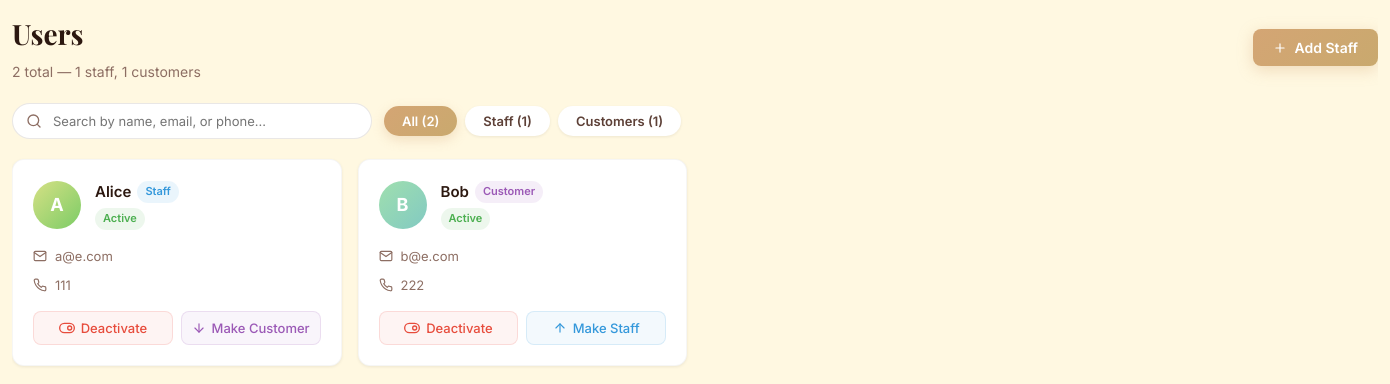
Test: filters by search
The width and height of the screenshot is (1390, 384).
Expected: the text "Alice" is shown, [95,180,131,204]
Step 1. Type "Bob" into the field with placeholder "Search by name, email, or phone..." → x=192, y=121, box [12,103,372,139]
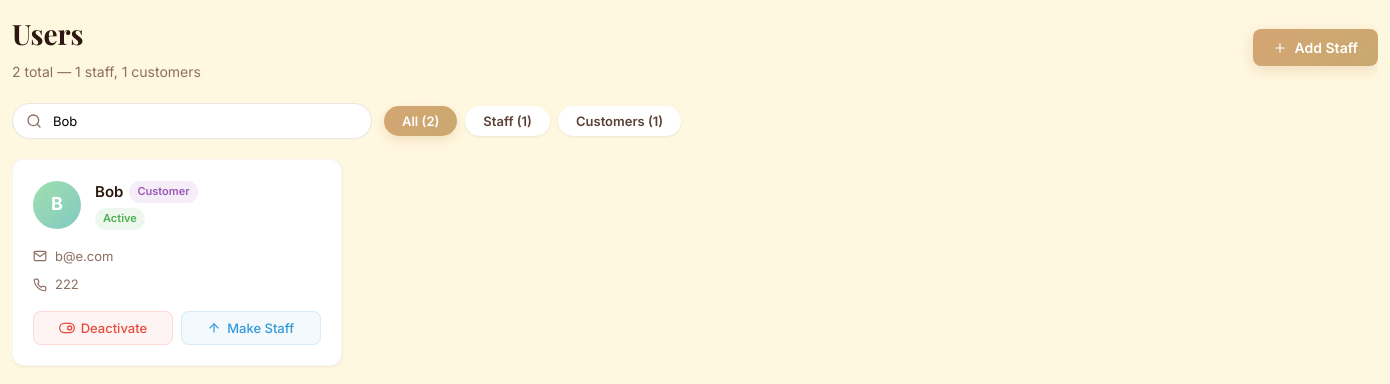
Expected: the text "Bob" is shown, [95,180,123,204]
Result: the text "Alice" is gone
